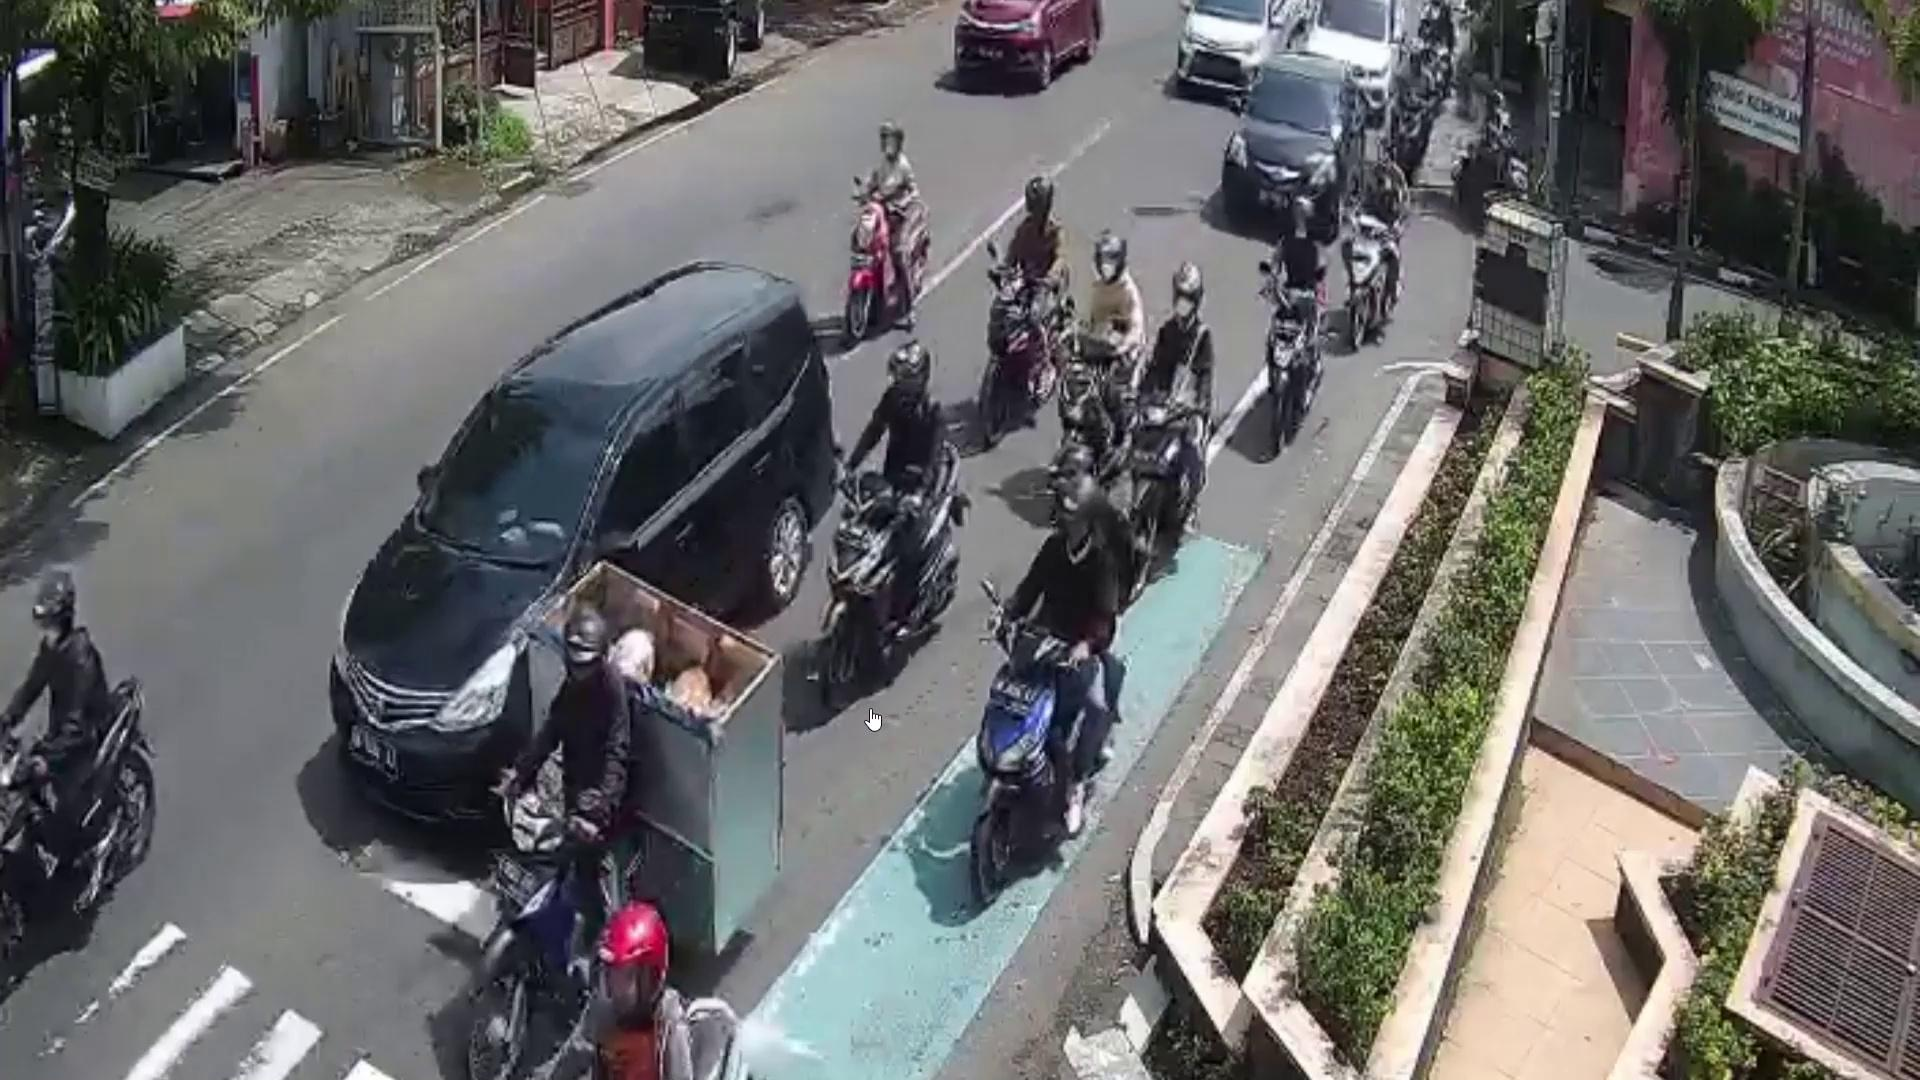car: (339, 264, 840, 827), (1224, 53, 1369, 235), (956, 1, 1109, 100), (1305, 1, 1412, 120), (1178, 1, 1292, 95)
motorbike: (460, 790, 642, 1080), (0, 671, 160, 981), (968, 618, 1124, 910), (820, 436, 967, 716), (1122, 392, 1212, 599), (981, 265, 1072, 442), (843, 191, 930, 343), (1262, 284, 1328, 448), (1344, 215, 1396, 342), (1456, 140, 1530, 227)
